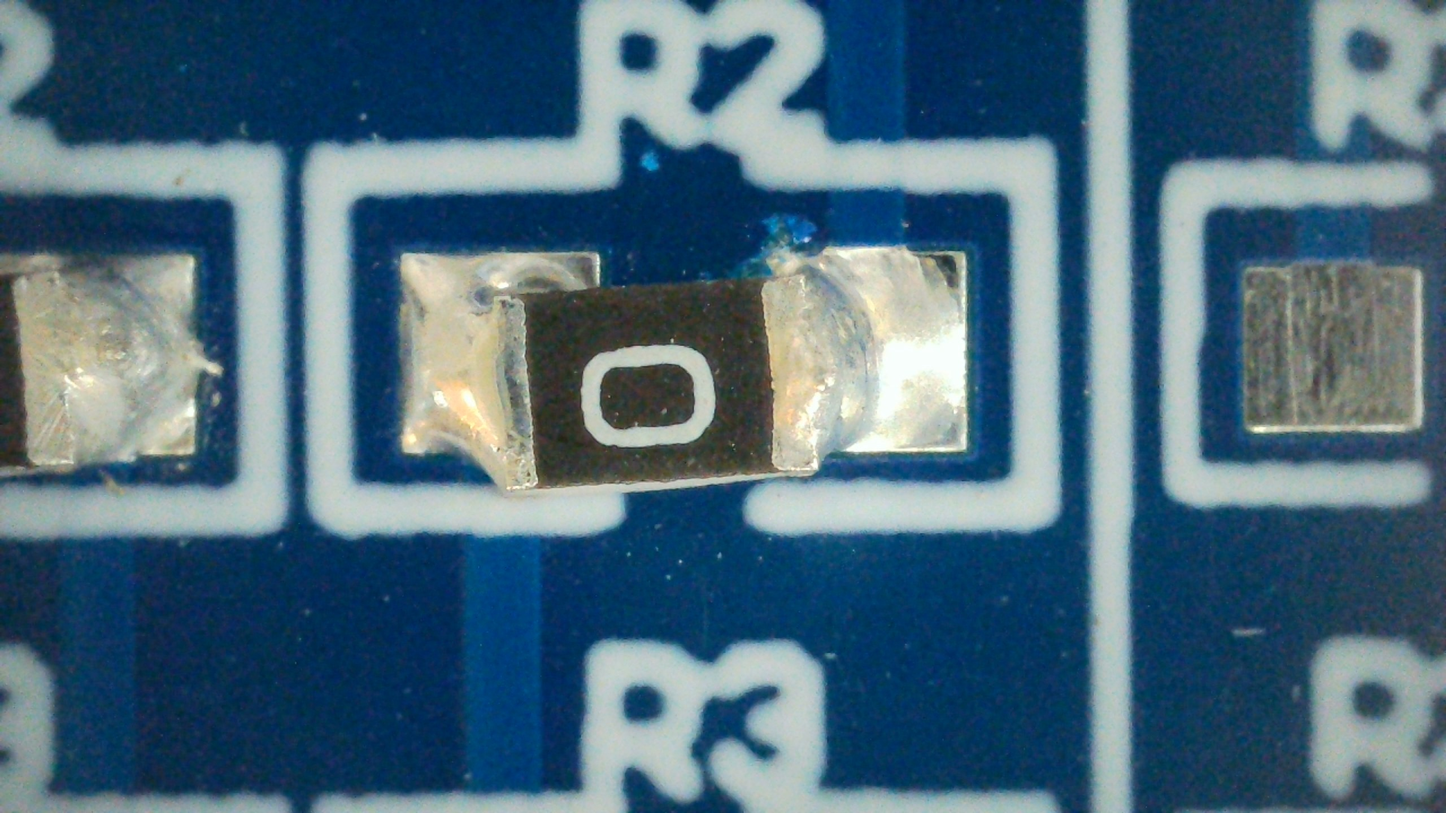NG: (399, 246, 967, 492)
